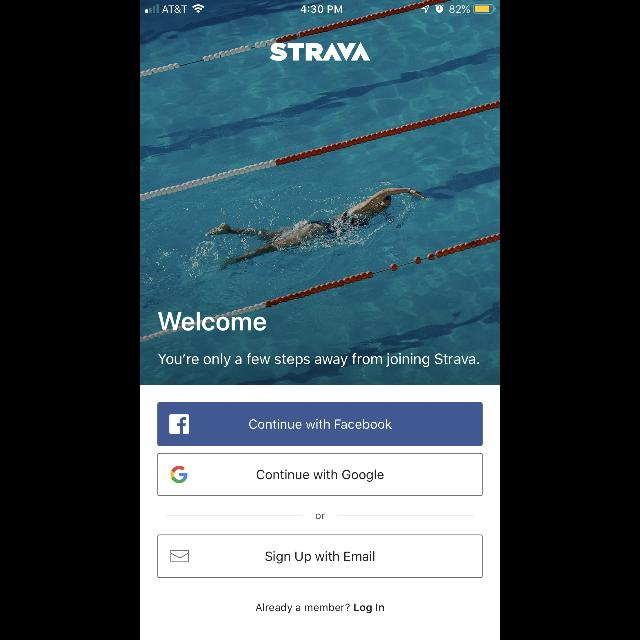image: (140, 1, 500, 385), (270, 43, 370, 61)
text: (158, 353, 478, 367), (158, 312, 266, 331), (256, 603, 384, 613), (316, 514, 326, 520)
textbutton: (158, 402, 482, 446), (158, 534, 482, 578), (158, 454, 482, 496)
uppertaskbar: (140, 0, 500, 14)
